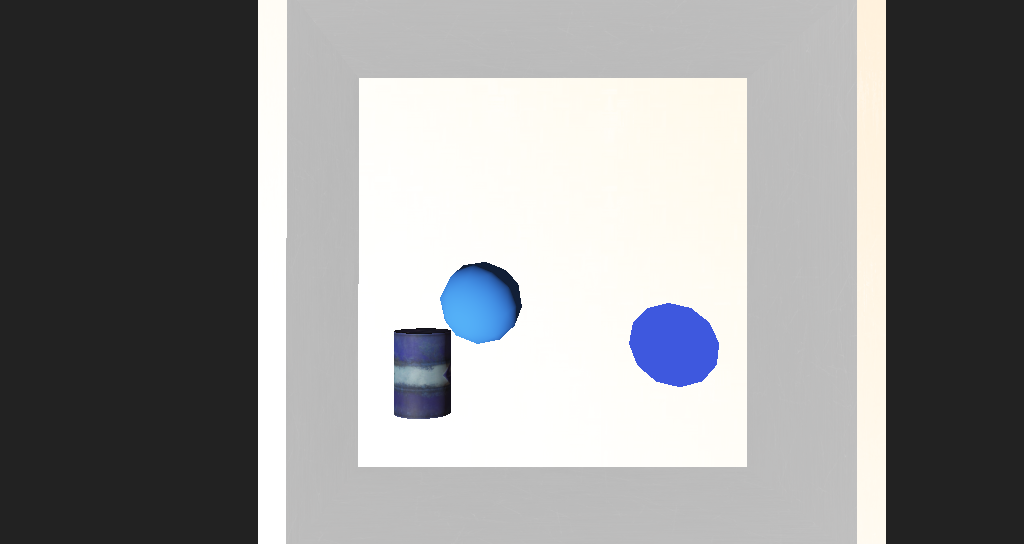cone: (377, 298, 431, 351)
cylinder: (556, 289, 630, 351)
sphere: (421, 265, 482, 308)
